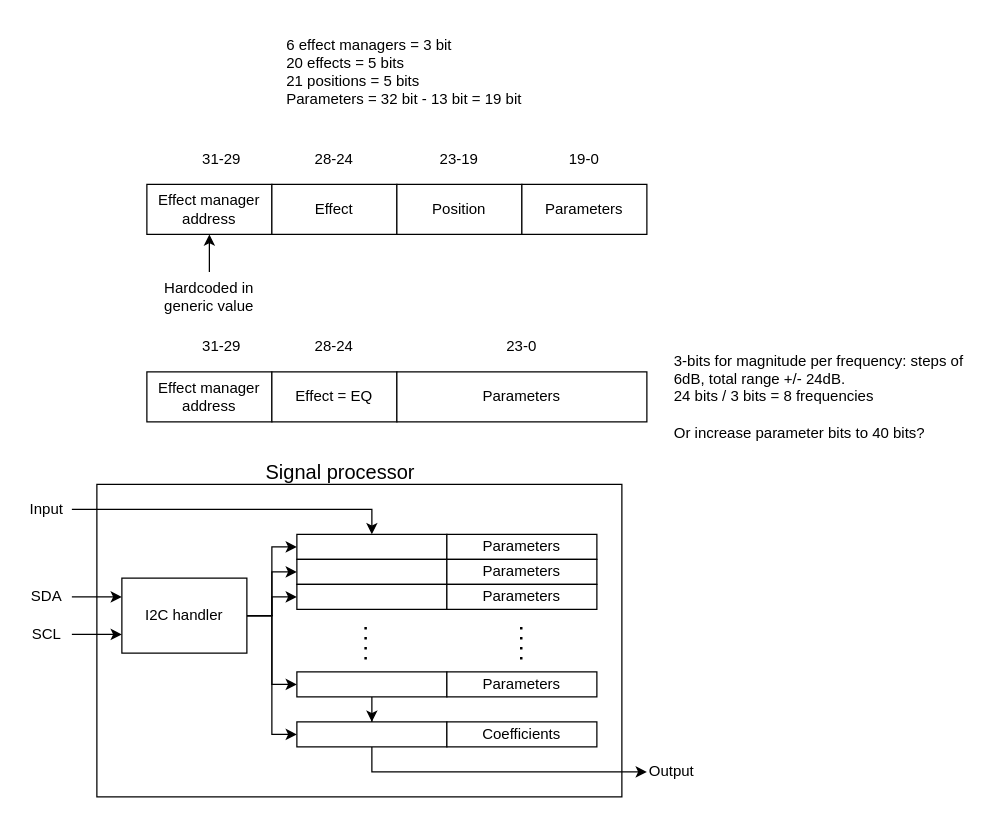
Some shapes in this 993 by 819 pixel diagram are drawn without their labels. The box of each missing label's shape, as (x1, y1, x2, y2) in pixels:
Effect 0: (296, 533, 447, 559)
Effect 1: (296, 558, 447, 584)
Effect 2: (296, 583, 447, 609)
Effect n: (296, 671, 447, 697)
Equalizer: (296, 721, 447, 747)
